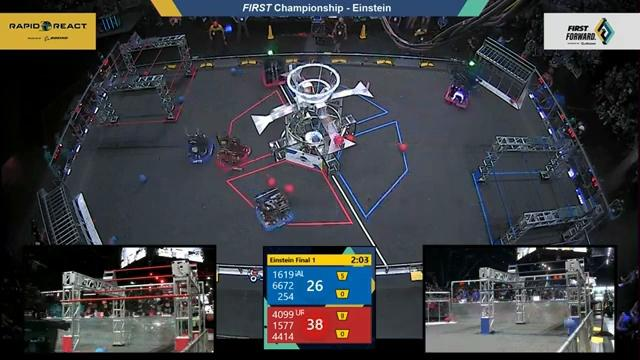robot: (247, 185, 297, 235), (175, 124, 215, 165), (213, 133, 252, 174), (448, 55, 486, 94), (439, 81, 475, 116), (258, 52, 290, 90)
